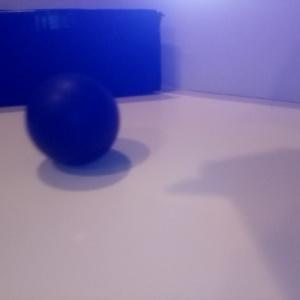dead_ball: (24, 72, 119, 166)
